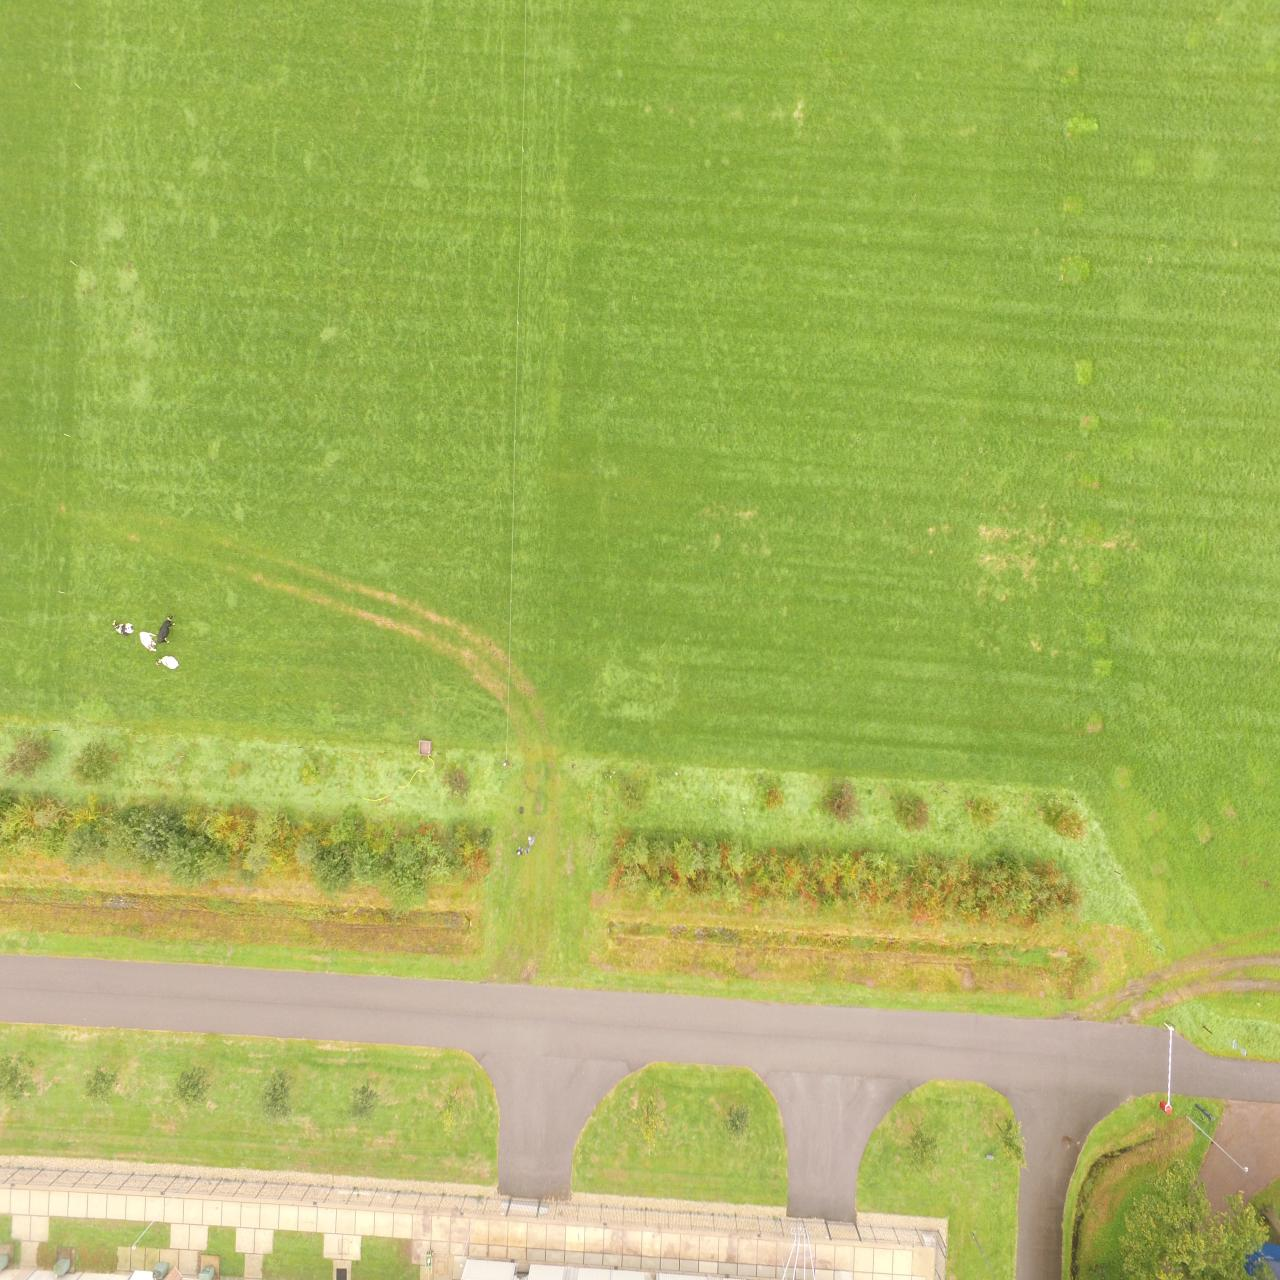cow: (157, 613, 175, 647), (138, 629, 156, 651), (156, 655, 178, 670), (113, 620, 132, 635)
